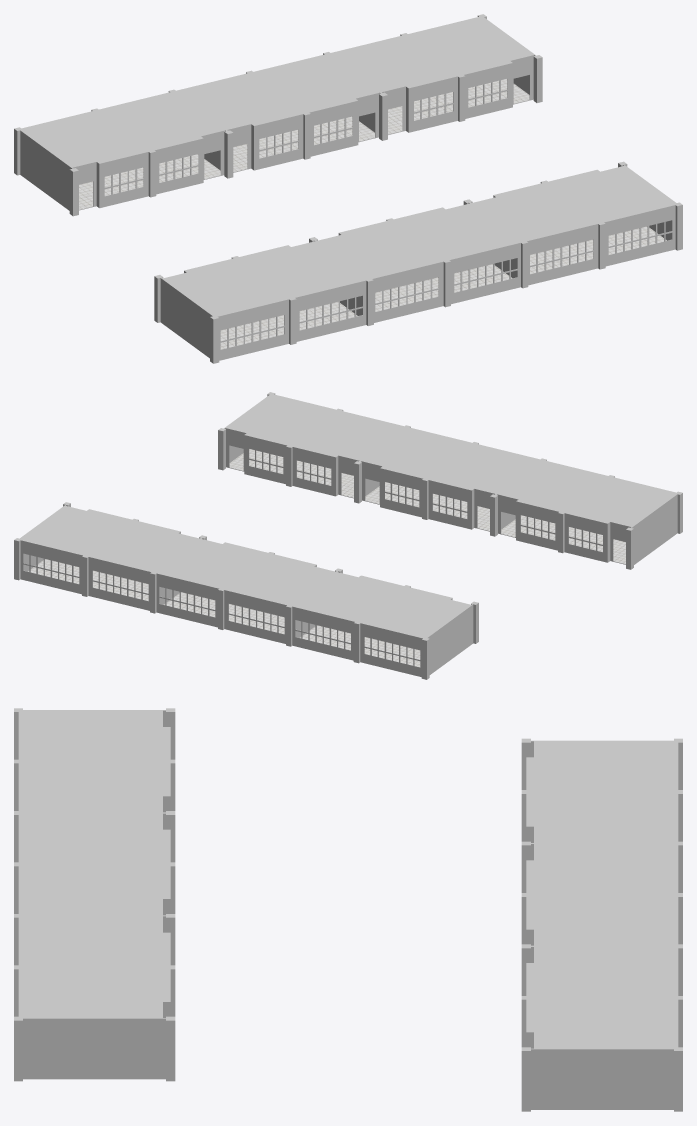
Rendered from Lab-transformed.glb.
3 renders of one model, top to bottom at view 1: azimuth 30°, elevation 25°; view 2: azimuth 150°, elevation 25°; view 3: azimuth 270°, elevation 25°, orthographic. The views are drawn at different scales.
Visible parts, largest first — view 1: lab-lt1-left; view 2: lab-lt1-left; view 3: lab-lt1-left.
Boxes of the visible parts, x1,y1,x2,y2 form: lab-lt1-left: [14, 14, 682, 363]; lab-lt1-left: [14, 392, 682, 679]; lab-lt1-left: [14, 708, 682, 1111].
Bounding box in the file's own units: 16.01 × 1.32 × 13.2.
2 materials, 1 textured.
